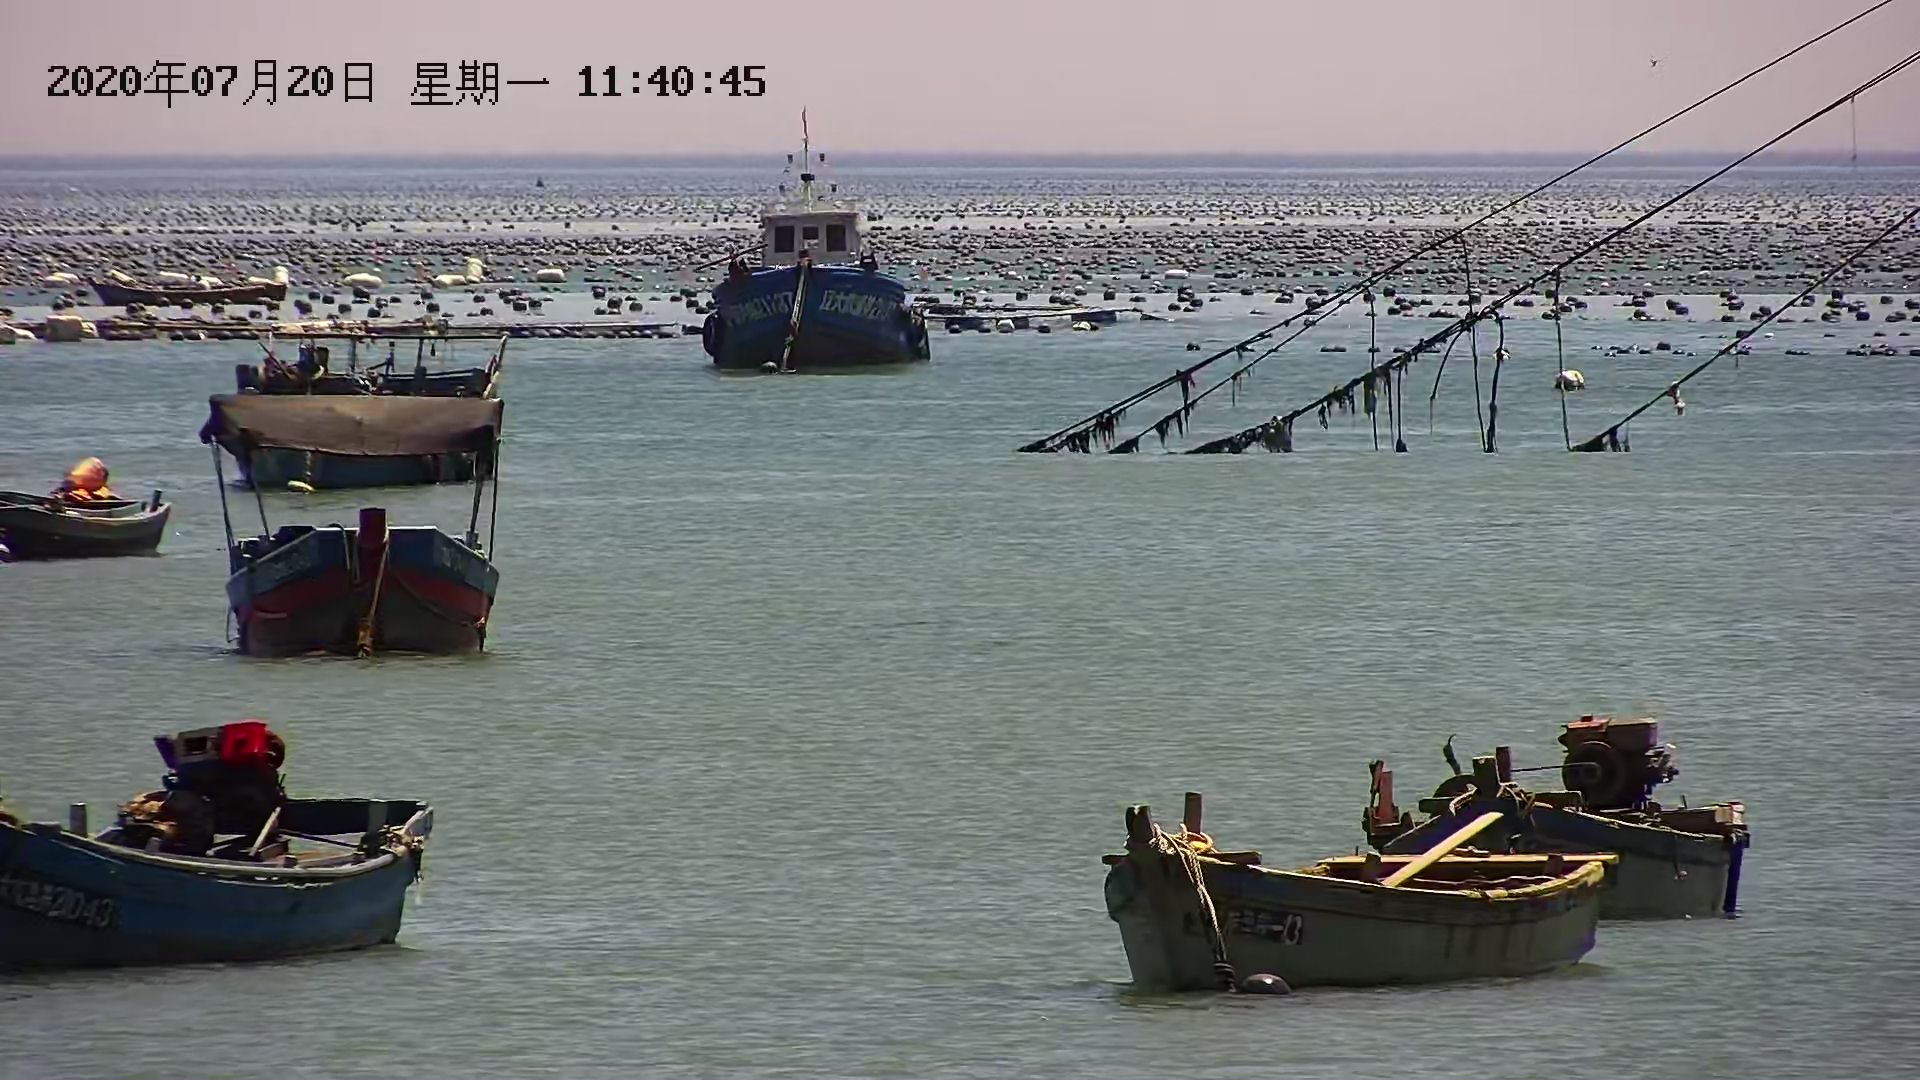boat: (1092, 761, 1619, 986), (11, 731, 433, 967), (1381, 717, 1763, 923), (211, 331, 508, 498), (703, 173, 928, 384), (211, 512, 504, 657), (4, 454, 173, 551), (95, 276, 295, 310)
